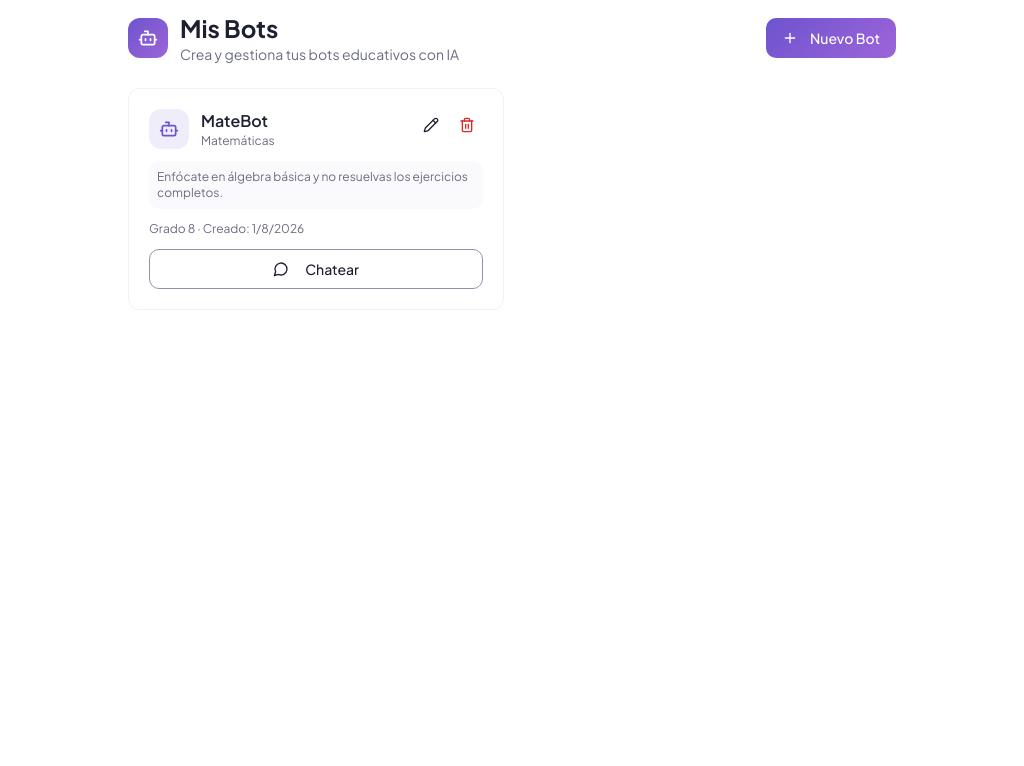
Test: Asistentes conversacionales › editar carga los datos existentes en el formulario
This screenshot has width=1024, height=766.
Check: the text "MateBot" is shown, box [201, 109, 275, 133]
Click the button named "Editar MateBot": point(431, 125) [415, 109, 447, 141]
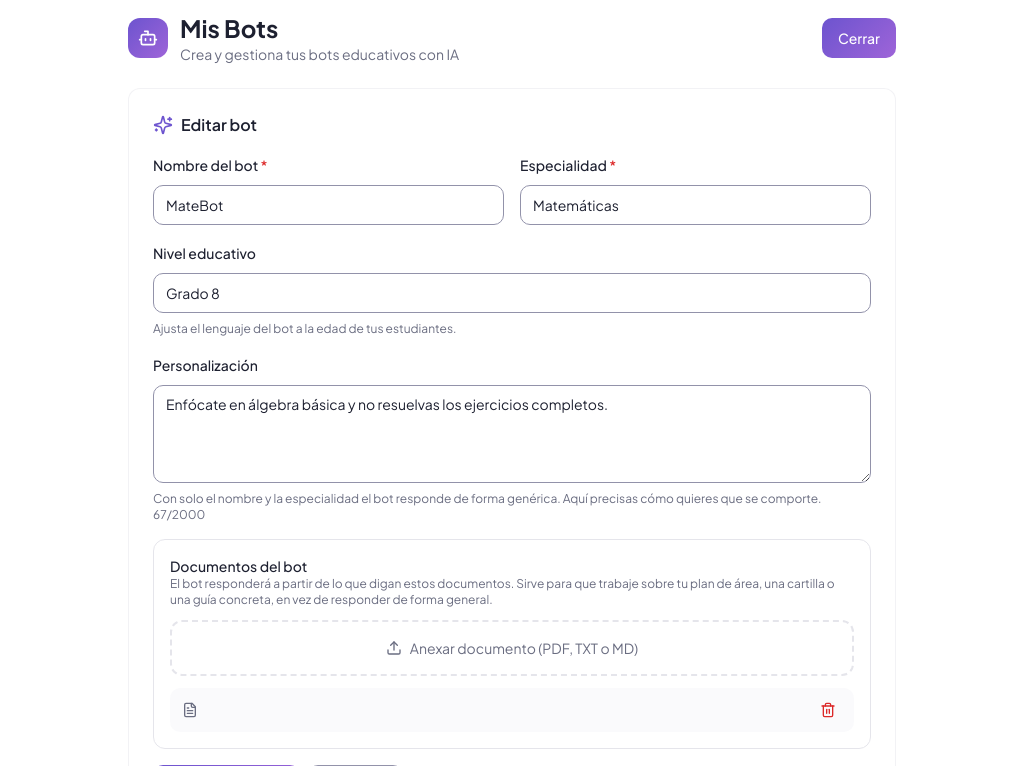
Check: the heading "Editar bot" is shown, box [153, 114, 257, 135]
Check: the field labelled "Nombre del bot *" holds "MateBot", box [153, 185, 504, 225]
Check: the field labelled "Especialidad *" holds "Matemáticas", box [520, 185, 871, 225]
